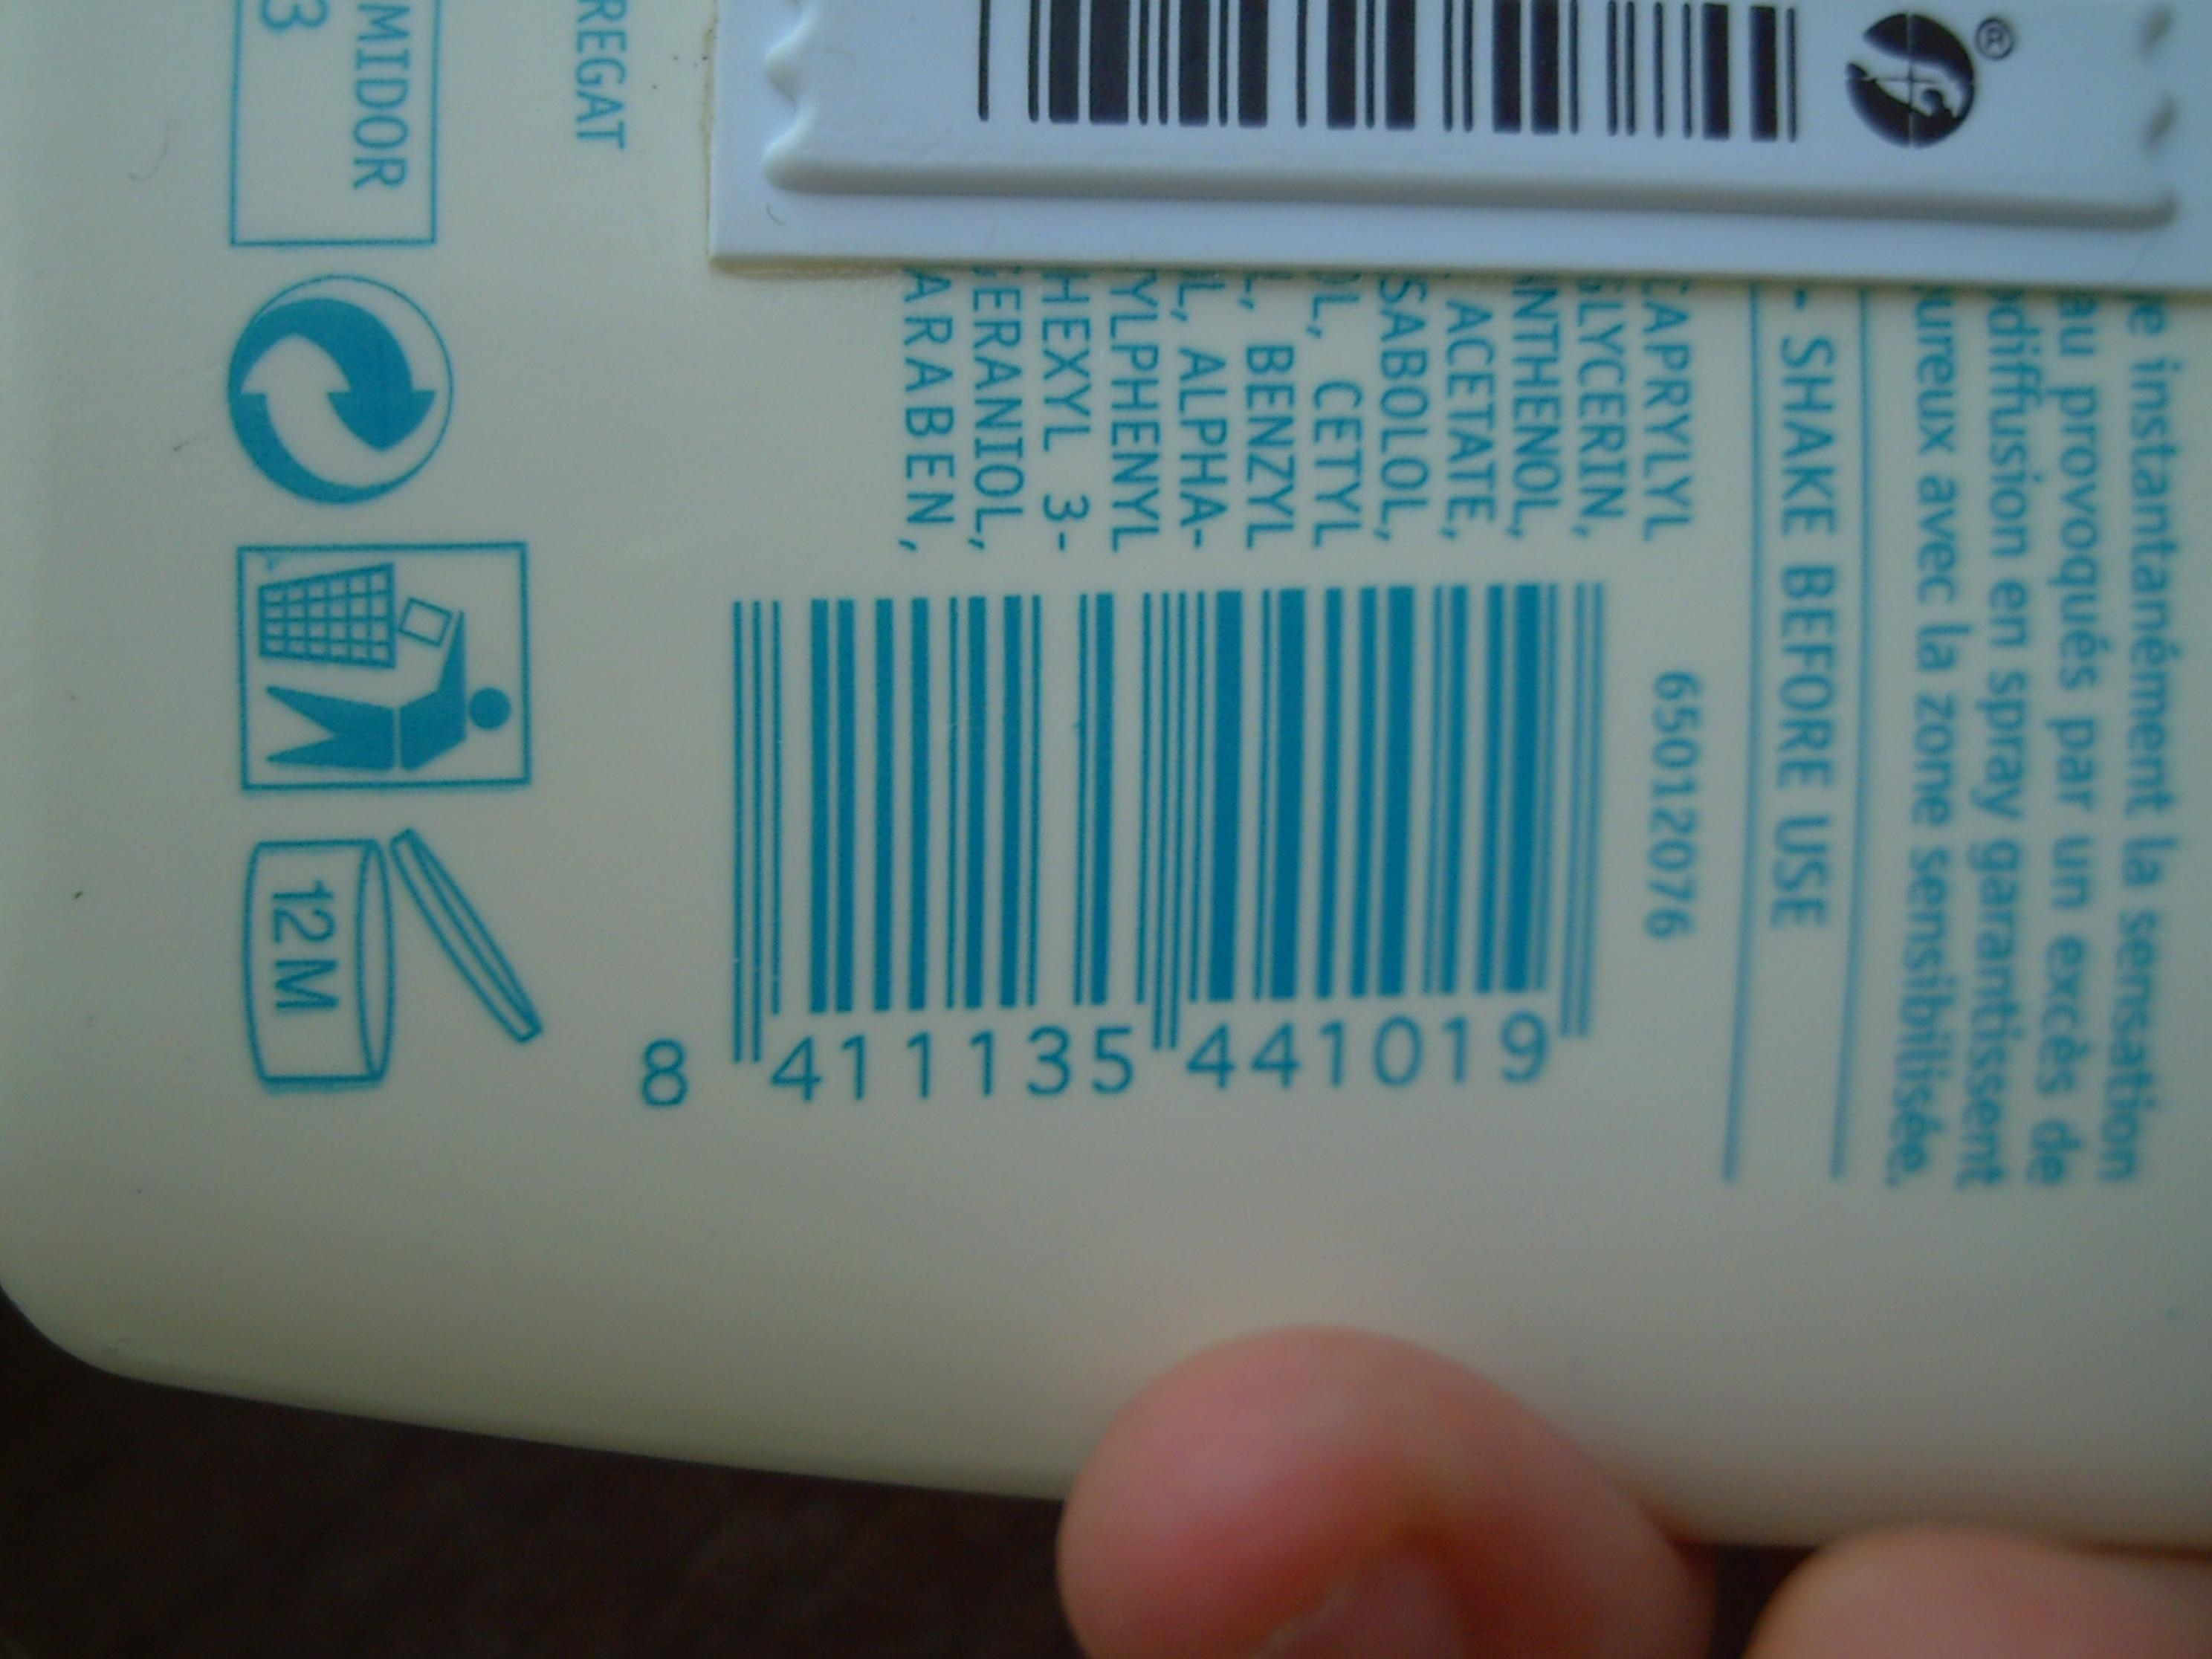barcode: (622, 568, 1625, 1122)
